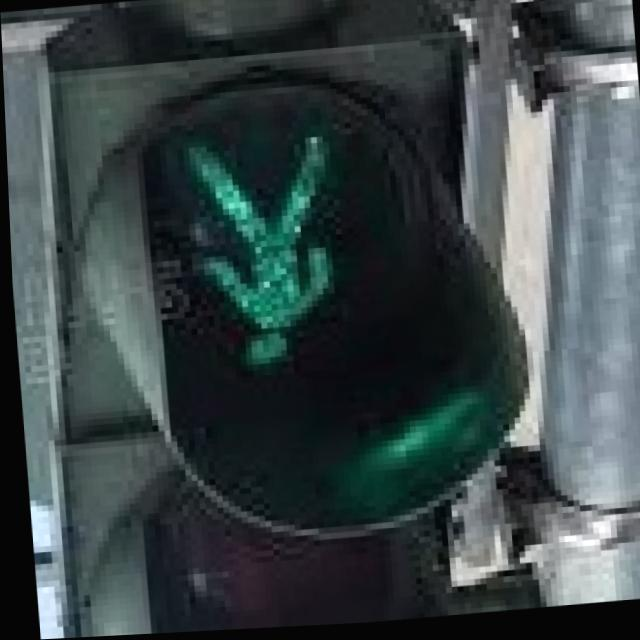green_light: (161, 119, 354, 401)
